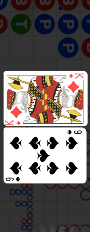9C: (66, 128, 84, 136)
KD: (68, 72, 85, 79)
